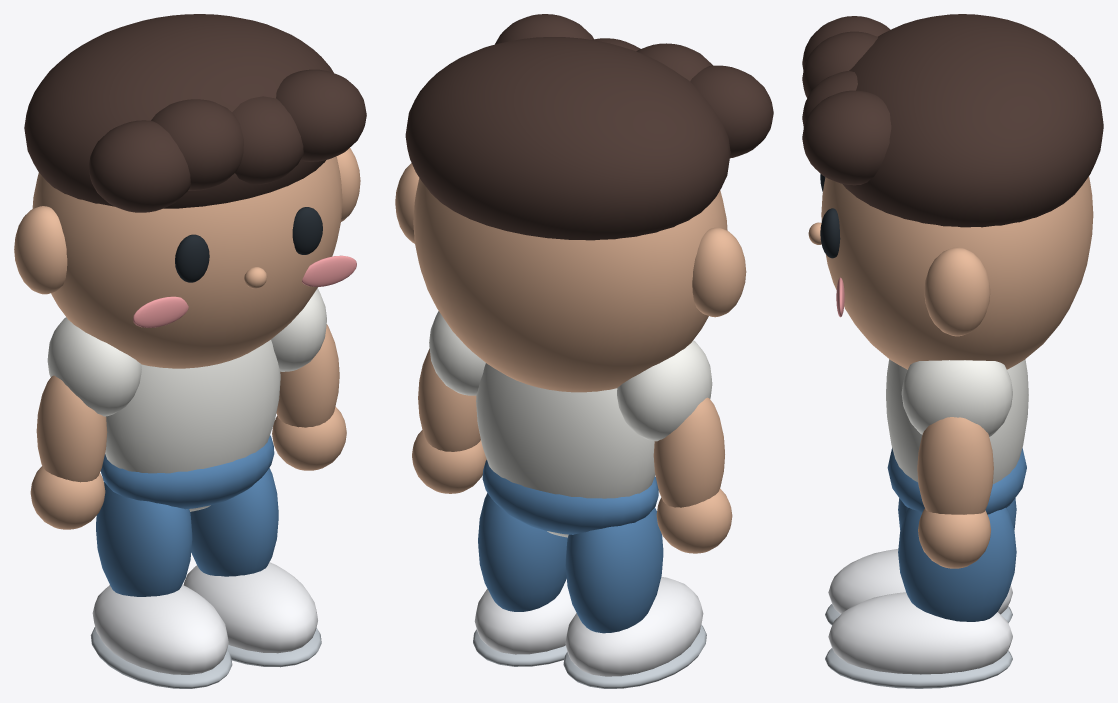
Rendered from chibi-visitor-demo.glb.
The picture shows the model from 3 angles, left to right: view 1: azimuth 30°, elevation 25°; view 2: azimuth 150°, elevation 25°; view 3: azimuth 270°, elevation 25°; orthographic projection.
Visible parts, largest first — view 1: Head, Hair cap, Torso, Sneaker L, Jeans leg L, Sneaker R, Hair tuft 0, Jeans leg R, Hair tuft 3, Sleeve L, Jeans waist, Arm L (+14 smaller); view 2: Hair cap, Head, Torso, Jeans leg L, Sneaker L, Jeans leg R, Sleeve L, Jeans waist, Arm L, Hair tuft 0, Sneaker R, Arm R (+9 smaller); view 3: Hair cap, Head, Sneaker R, Jeans leg R, Sleeve R, Hair tuft 3, Arm R, Torso, Ear R, Hand R, Sneaker L, Sole R (+5 smaller).
Boxes of the visible parts, box(x1,y1,x2,y2) form: Head: box(32, 156, 342, 368); Hair cap: box(24, 14, 333, 208); Torso: box(105, 340, 280, 511); Sneaker L: box(92, 585, 228, 674); Jeans leg L: box(96, 482, 192, 596); Sneaker R: box(183, 562, 317, 653); Hair tuft 0: box(88, 120, 190, 212); Jeans leg R: box(190, 468, 278, 576); Hair tuft 3: box(276, 69, 366, 161); Sleeve L: box(47, 317, 141, 416); Jeans waist: box(100, 435, 274, 509); Arm L: box(36, 375, 107, 482); Hair cap: box(405, 37, 730, 240); Head: box(413, 178, 727, 392); Torso: box(476, 363, 655, 537); Jeans leg L: box(565, 507, 663, 633); Sneaker L: box(565, 577, 703, 676); Jeans leg R: box(478, 493, 567, 611); Sleeve L: box(617, 340, 712, 441); Jeans waist: box(482, 460, 658, 534); Arm L: box(653, 397, 724, 507); Hair tuft 0: box(690, 65, 773, 158); Sneaker R: box(474, 579, 576, 654); Arm R: box(418, 348, 480, 451); Hair cap: box(842, 14, 1103, 227); Head: box(821, 176, 1093, 369); Sneaker R: box(828, 592, 1012, 674); Jeans leg R: box(898, 507, 1016, 621); Sleeve R: box(901, 360, 1012, 436); Hair tuft 3: box(802, 90, 891, 185); Arm R: box(917, 417, 993, 514); Torso: box(886, 359, 1028, 484); Ear R: box(924, 247, 990, 336); Hand R: box(918, 508, 990, 568); Sneaker L: box(828, 549, 1012, 614); Sole R: box(825, 648, 1012, 688).
Bounding box in the file's own units: 1.13 × 1.94 × 0.865.
